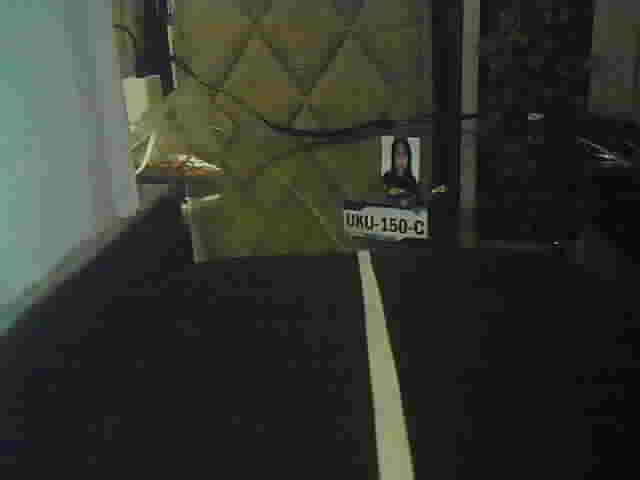PLACA: (341, 198, 430, 245)
ROSTRO: (379, 134, 420, 188)
